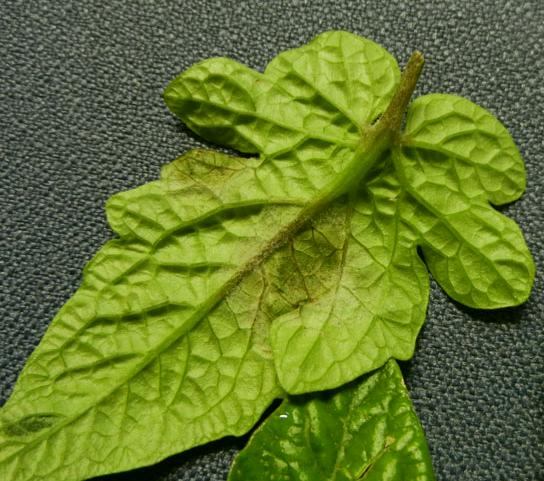Tomato leaf late blight: (0, 13, 537, 481)
